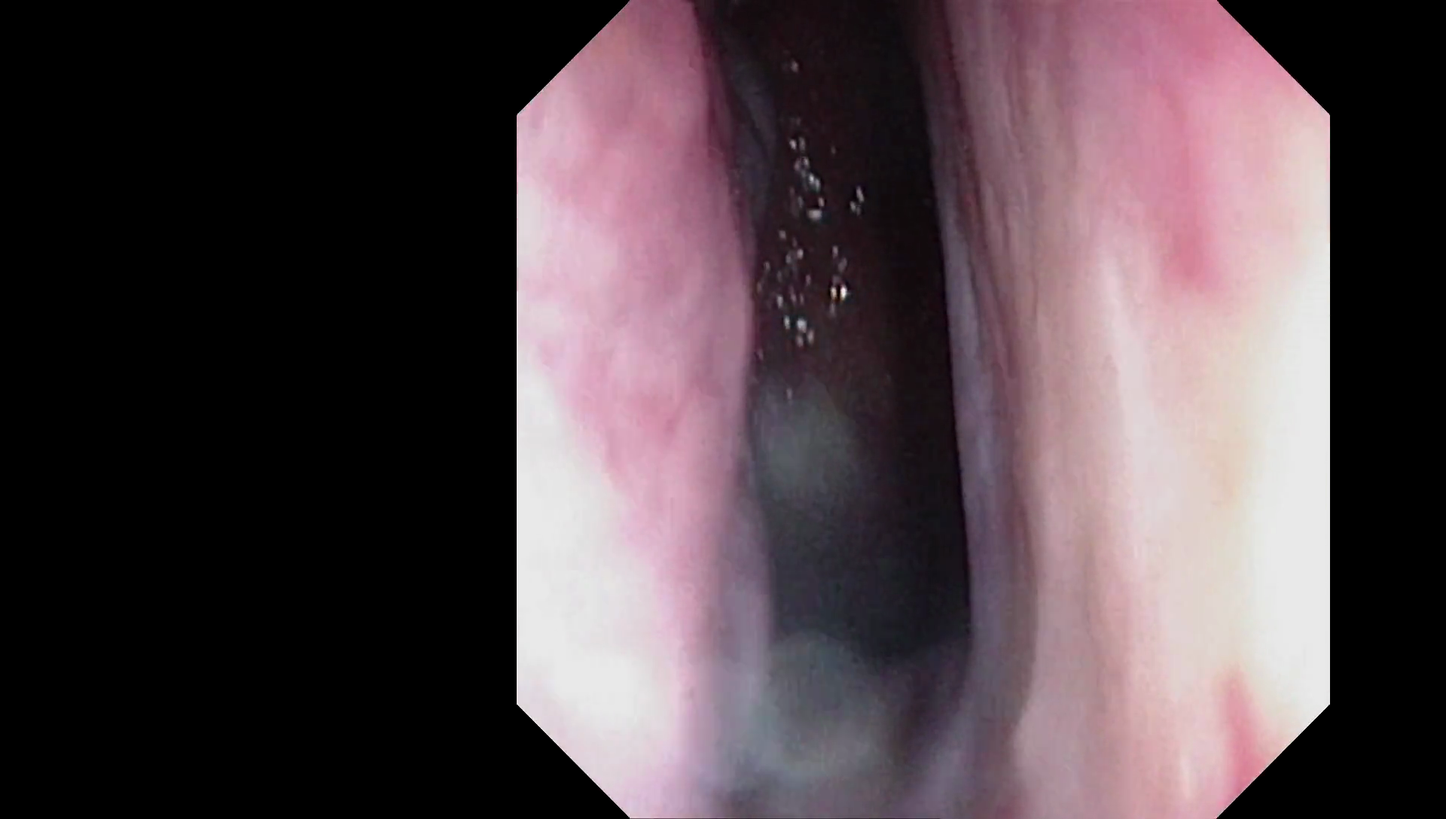close_wall: (999, 108, 1321, 699), (524, 169, 772, 695)
next: (795, 255, 1044, 727)
